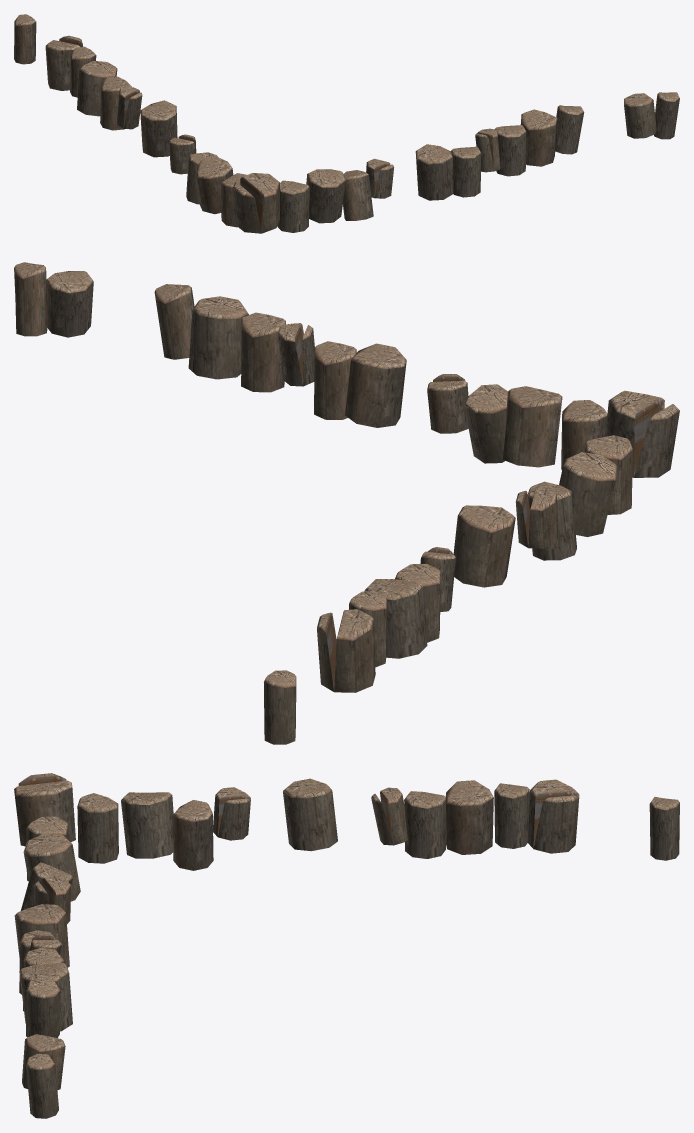
File: building_guide_corner.glb
The picture shows the model from 3 angles, top to bottom: view 1: azimuth 30°, elevation 25°; view 2: azimuth 150°, elevation 25°; view 3: azimuth 270°, elevation 25°; orthographic projection. The views are drawn at different scales.
Visible parts, largest first — view 1: building_guide_corner; view 2: building_guide_corner; view 3: building_guide_corner.
Boxes of the visible parts, x1=… form: building_guide_corner: x1=14, y1=14, x2=679, y2=233; building_guide_corner: x1=14, y1=262, x2=679, y2=744; building_guide_corner: x1=14, y1=773, x2=679, y2=1118.
Size of the model in its own units: 3.15 by 0.4343 by 3.14.
1 material, 1 textured.
